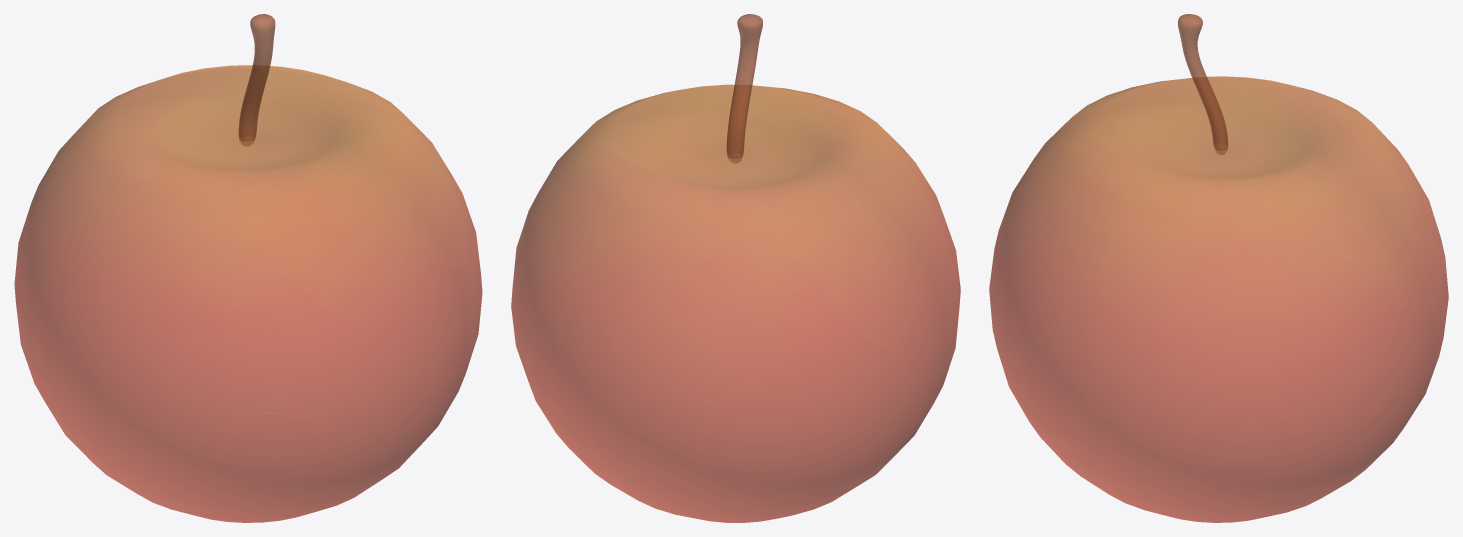
Rendered from Apple.glb.
The picture shows the model from 3 angles, left to right: view 1: azimuth 30°, elevation 25°; view 2: azimuth 150°, elevation 25°; view 3: azimuth 270°, elevation 25°; orthographic projection. The views are drawn at different scales.
Parts seen in each view (by area): view 1: Sphere, Cube; view 2: Sphere, Cube; view 3: Sphere, Cube.
Boxes of the visible parts, x1,y1,x2,y2 form: Sphere: (14, 65, 482, 522); Cube: (238, 14, 275, 146); Sphere: (511, 84, 960, 522); Cube: (726, 14, 762, 163); Sphere: (989, 76, 1448, 522); Cube: (1177, 14, 1228, 155).
Size of what is drawn, in the model's own units: 1.99 by 2.32 by 1.99.
2 materials, 1 textured.
